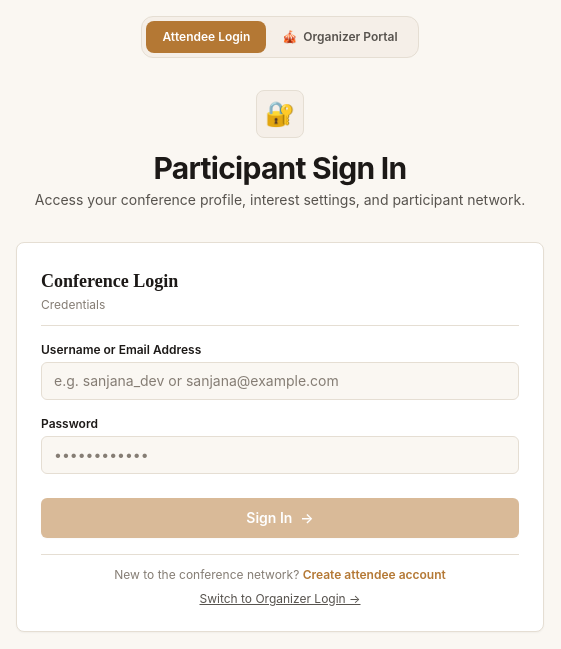
Scenario: Organizer Portal Integration (Phase 2 & Phase 3) › toggles between Attendee Login and Organizer Portal on Login page
Check: the heading "Participant Sign In" is shown, box x1=154 y1=150 x2=406 y2=186
What coordinates should you click on to do the following:
click the button "🎪 Organizer Portal"
I would click on:
 (340, 37)
Its box is x1=266 y1=21 x2=414 y2=53.
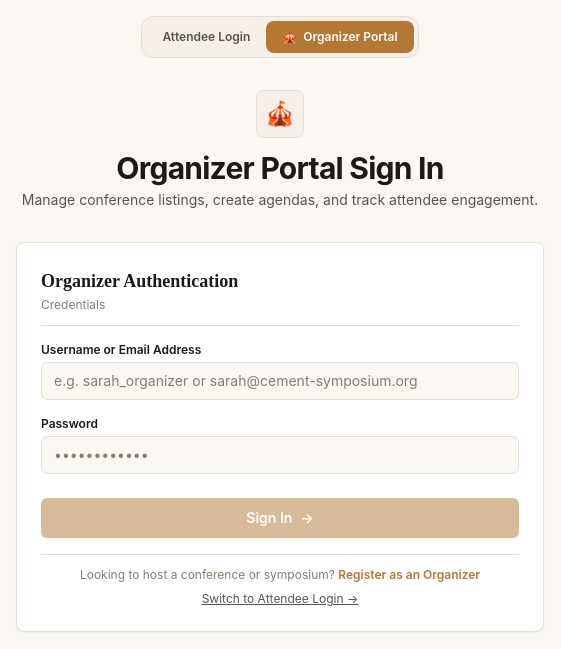
Check: the heading "Organizer Portal Sign In" is shown, box x1=116 y1=150 x2=444 y2=186
Check: the link "Register as an Organizer" is shown, box x1=338 y1=567 x2=480 y2=582
What coordinates should you click on to do the following:
click the button "Attendee Login"
I would click on:
 (206, 37)
Its box is x1=146 y1=21 x2=266 y2=53.
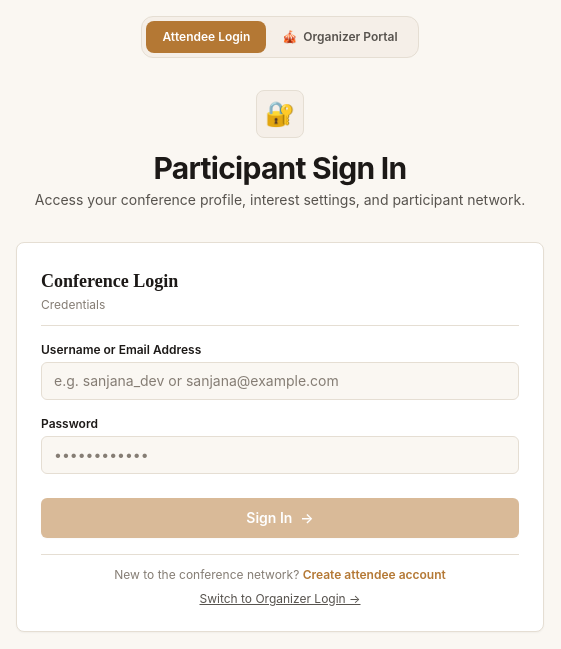
Check: the heading "Participant Sign In" is shown, box x1=154 y1=150 x2=406 y2=186
